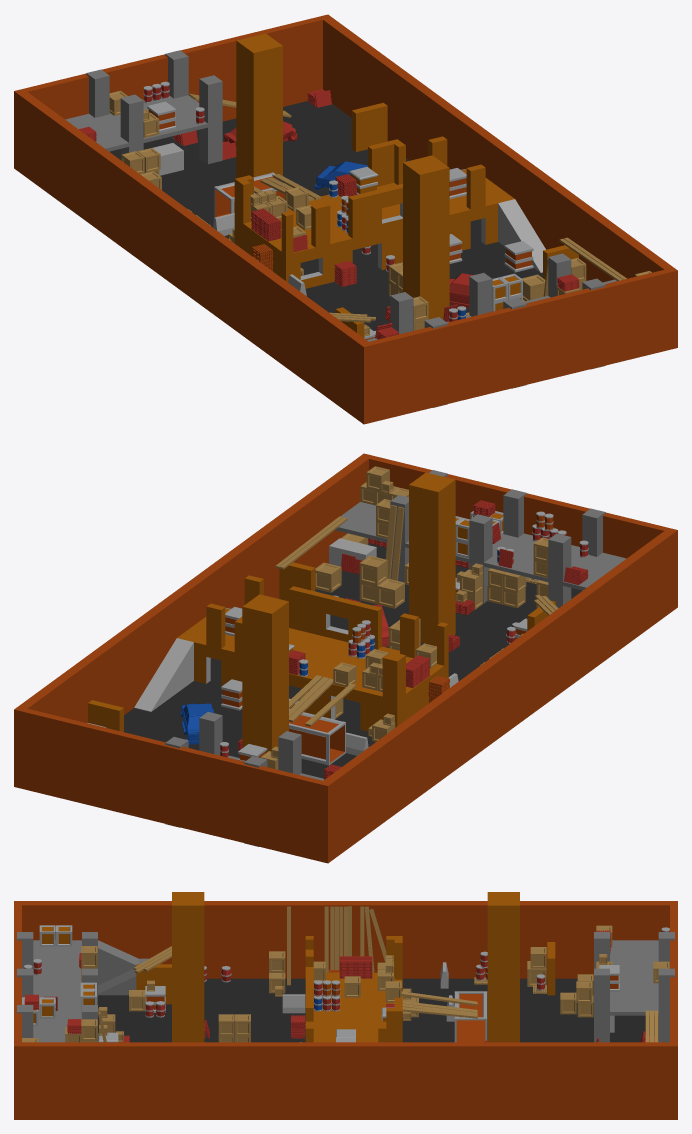
The model's file is construction.glb.
3 views of the same model, one above another, from view 1: azimuth 30°, elevation 25°; view 2: azimuth 150°, elevation 25°; view 3: azimuth 270°, elevation 25° (orthographic). The views are drawn at different scales.
Visible parts, largest first — view 1: floors, room, Plane, Cube.016, obj.048, obj.049, Cube.004, Cube.001, obj.004, Cube.005, BigBox.004, Cube.011 (+2 smaller); view 2: floors, room, Plane, Cube.004, obj.048, obj.049, Cube.016, Cube.002, Cube.005, obj.002, obj.004, Cube.017 (+4 smaller); view 3: floors, Plane, Cube.016, Cube.004, room, obj.048, obj.049, up2, Cube.005, Cube.030, obj.024, Cube.023 (+17 smaller).
Part boxes in pixels (box(x1,y1,x2,y2)): floors: box(14, 14, 677, 424); room: box(234, 136, 514, 288); Plane: box(110, 101, 542, 330); Cube.016: box(65, 50, 222, 164); obj.048: box(403, 155, 449, 319); obj.049: box(236, 33, 282, 178); Cube.004: box(367, 253, 616, 407); Cube.001: box(498, 199, 545, 272); obj.004: box(351, 102, 387, 151); Cube.005: box(214, 172, 286, 217); BigBox.004: box(504, 241, 533, 272); Cube.011: box(153, 143, 183, 175); floors: box(14, 453, 677, 863); room: box(177, 575, 448, 731); Plane: box(124, 543, 581, 778); Cube.004: box(335, 470, 626, 608); obj.048: box(409, 472, 455, 645); obj.049: box(242, 594, 288, 752); Cube.016: box(165, 712, 323, 846); Cube.002: box(134, 638, 193, 711); Cube.005: box(289, 709, 345, 765); obj.002: box(279, 562, 315, 601); obj.004: box(88, 700, 123, 731); Cube.017: box(329, 538, 376, 566); floors: box(14, 901, 677, 1119); Plane: box(98, 978, 658, 1042); Cube.016: box(594, 932, 674, 1042); Cube.004: box(17, 932, 97, 1042); room: box(305, 936, 402, 1042); obj.048: box(172, 892, 204, 1042); obj.049: box(487, 892, 519, 1042); up2: box(98, 940, 148, 995); Cube.005: box(454, 991, 487, 1042); Cube.030: box(330, 906, 347, 969); obj.024: box(136, 964, 171, 1004); Cube.023: box(360, 906, 374, 972).
Size of what is drawn, in the model's own units: 23.8 by 11.34 by 45.92.
